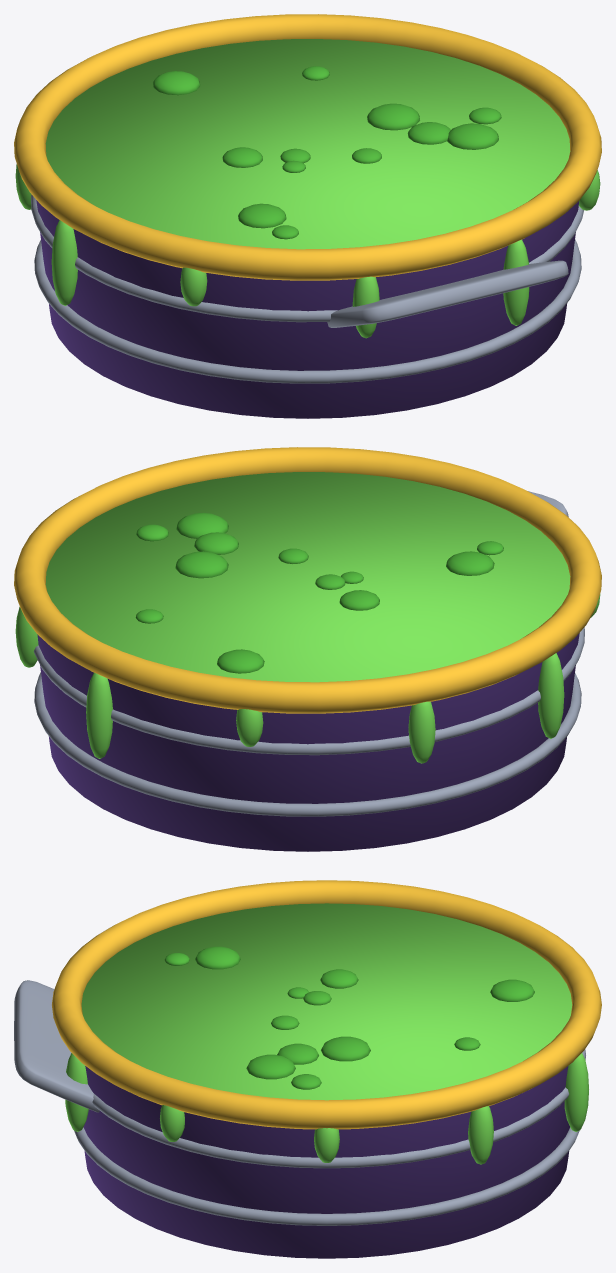
Rendered from P_SlopVat.fbx.
The picture shows the model from 3 angles, top to bottom: view 1: azimuth 30°, elevation 25°; view 2: azimuth 150°, elevation 25°; view 3: azimuth 270°, elevation 25°; orthographic projection. The views are drawn at different scales.
Parts seen in each view (by area): view 1: P_SlopVat__Slop, P_SlopVat__Tub, P_SlopVat__Rim, P_SlopVat__Metal, P_SlopVat__SlopDark; view 2: P_SlopVat__Slop, P_SlopVat__Tub, P_SlopVat__Rim, P_SlopVat__Metal, P_SlopVat__SlopDark; view 3: P_SlopVat__Slop, P_SlopVat__Tub, P_SlopVat__Rim, P_SlopVat__Metal, P_SlopVat__SlopDark.
Boxes of the visible parts, box(x1,y1,x2,y2) form: P_SlopVat__Slop: box(15, 39, 600, 338); P_SlopVat__Tub: box(36, 200, 578, 418); P_SlopVat__Rim: box(14, 14, 601, 280); P_SlopVat__Metal: box(31, 194, 583, 383); P_SlopVat__SlopDark: box(153, 66, 501, 239); P_SlopVat__Slop: box(15, 472, 600, 763); P_SlopVat__Tub: box(37, 633, 579, 851); P_SlopVat__Rim: box(14, 447, 601, 713); P_SlopVat__Metal: box(33, 491, 584, 816); P_SlopVat__SlopDark: box(135, 512, 503, 673); P_SlopVat__Slop: box(65, 903, 588, 1164); P_SlopVat__Tub: box(83, 1066, 569, 1258); P_SlopVat__Rim: box(52, 880, 601, 1129); P_SlopVat__Metal: box(14, 980, 585, 1225); P_SlopVat__SlopDark: box(164, 946, 534, 1089).
Size of the model in its own units: 29.6 by 9.76 by 31.63.
